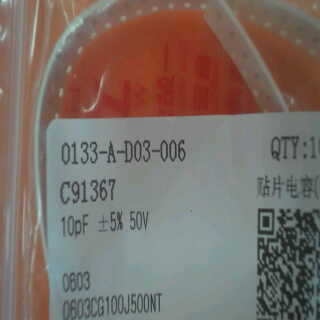10pF: (54, 208, 91, 243)
